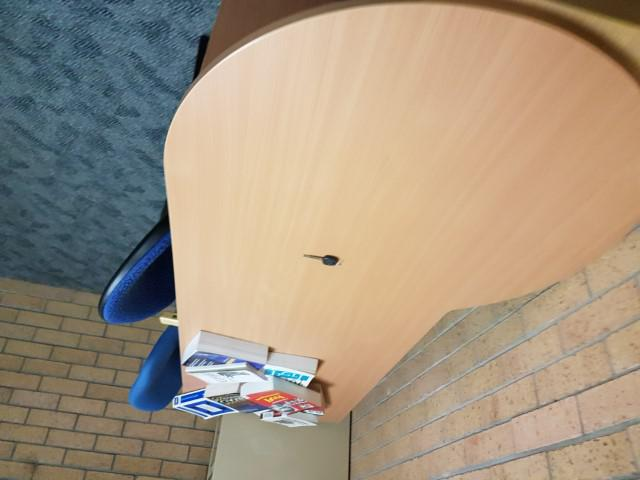key: (304, 254, 338, 266)
